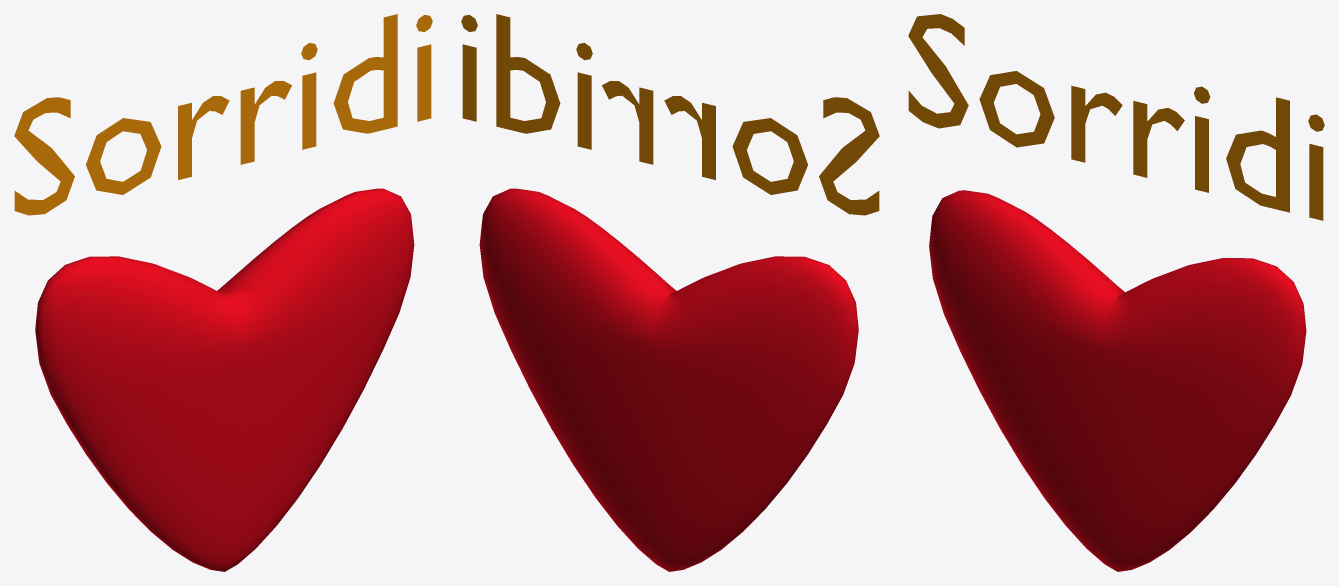
Rendered from cuore1.glb.
3 views of the same model, side by side, from view 1: azimuth 30°, elevation 25°; view 2: azimuth 150°, elevation 25°; view 3: azimuth 330°, elevation 25° (orthographic).
Parts seen in each view (by area): view 1: SurfSphere, Text; view 2: SurfSphere, Text; view 3: SurfSphere, Text.
Boxes of the visible parts, x1,y1,x2,y2 form: SurfSphere: [35, 188, 414, 571]; Text: [14, 14, 432, 215]; SurfSphere: [479, 188, 858, 571]; Text: [461, 14, 879, 215]; SurfSphere: [929, 190, 1306, 571]; Text: [908, 14, 1324, 220].
Bounding box in the file's own units: 1.07 × 1.26 × 0.1744.
